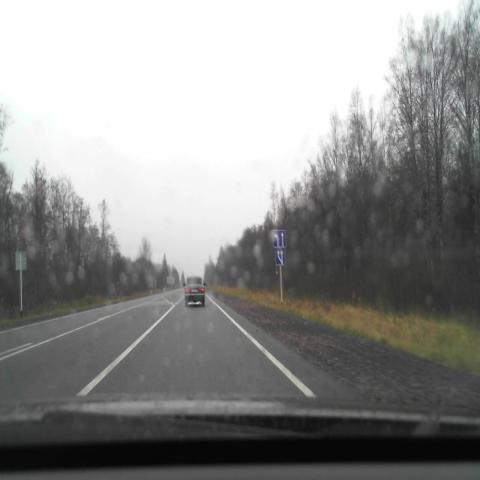5_15_2_2: (272, 229, 286, 249)
